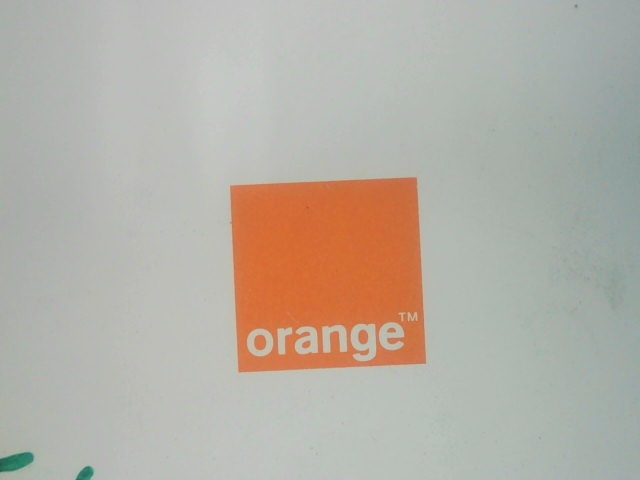AR_Orange: (226, 177, 429, 374)
